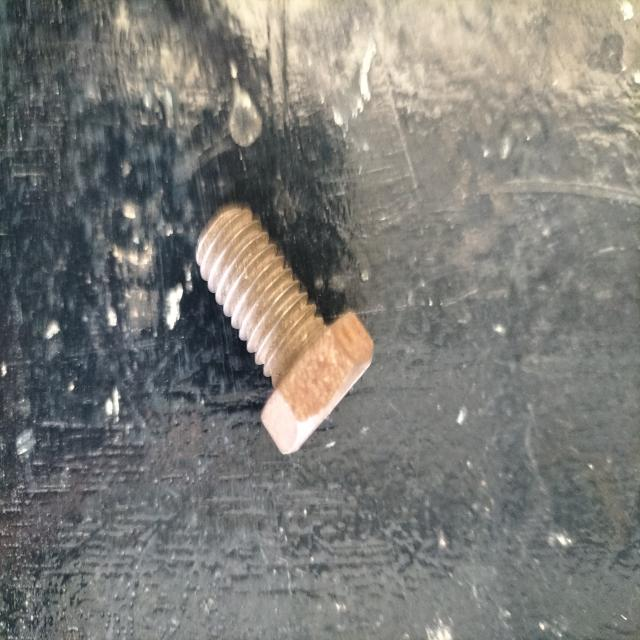bolt: (196, 205, 373, 455)
